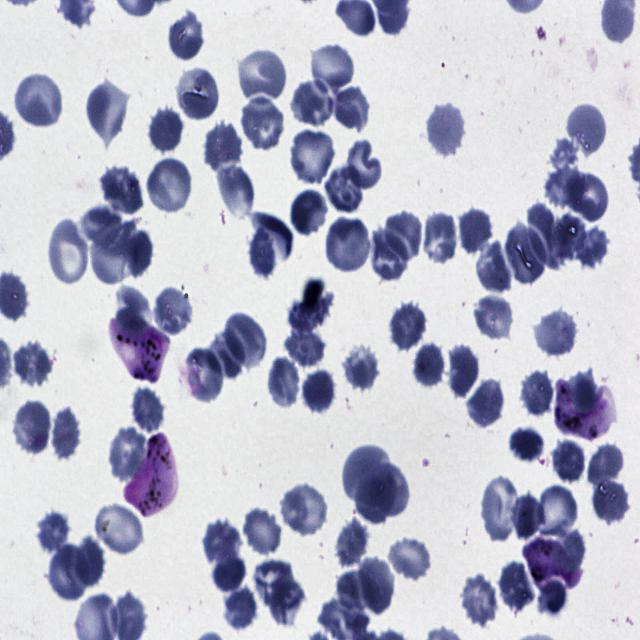difficult: (107, 316, 169, 381)
gametocyte: (124, 435, 178, 518)
red blood cell: (342, 442, 392, 508), (13, 72, 64, 130), (145, 156, 193, 216), (278, 482, 329, 538), (47, 218, 89, 286), (505, 221, 548, 287), (289, 126, 336, 186), (480, 473, 520, 542), (86, 79, 130, 141), (180, 345, 226, 404), (96, 501, 144, 557), (91, 221, 132, 285), (324, 216, 370, 273), (46, 545, 90, 604), (289, 76, 336, 131), (565, 100, 608, 160), (239, 94, 285, 150), (309, 40, 355, 96), (564, 170, 611, 224), (106, 425, 150, 482), (223, 311, 267, 368), (238, 47, 286, 99), (176, 66, 220, 122), (426, 100, 467, 158), (357, 556, 397, 615), (526, 202, 560, 271), (534, 306, 579, 358), (497, 558, 537, 616), (12, 399, 52, 456), (328, 80, 371, 133), (537, 486, 579, 540), (388, 533, 433, 583), (475, 240, 515, 296), (466, 376, 506, 431), (242, 503, 282, 558), (102, 166, 144, 218), (384, 208, 424, 262), (388, 300, 428, 354), (458, 574, 498, 628), (446, 340, 481, 401), (216, 163, 254, 218), (421, 209, 458, 265), (344, 139, 383, 192), (370, 462, 408, 516), (268, 574, 306, 628), (206, 328, 246, 378), (354, 475, 394, 525), (371, 228, 408, 282), (167, 10, 205, 62), (592, 473, 630, 525), (253, 559, 294, 607), (290, 189, 330, 238), (205, 123, 245, 172), (288, 292, 333, 335), (267, 355, 302, 410), (550, 212, 588, 262), (13, 342, 55, 387), (148, 105, 185, 156), (473, 293, 513, 340), (519, 367, 555, 419), (153, 287, 192, 335), (544, 164, 587, 207), (586, 442, 626, 488), (550, 438, 588, 486), (342, 342, 379, 391), (285, 326, 326, 370), (131, 385, 167, 435), (572, 226, 611, 271), (411, 341, 446, 391), (334, 518, 370, 566), (302, 368, 337, 417), (203, 518, 240, 564), (52, 405, 82, 461), (458, 206, 492, 255), (510, 491, 544, 540), (246, 225, 278, 277), (327, 166, 363, 212), (222, 584, 256, 631), (123, 228, 154, 279), (74, 535, 104, 586), (37, 510, 70, 556), (213, 554, 247, 592), (508, 427, 544, 462)
trophozoite: (556, 382, 618, 439), (522, 539, 582, 593)
